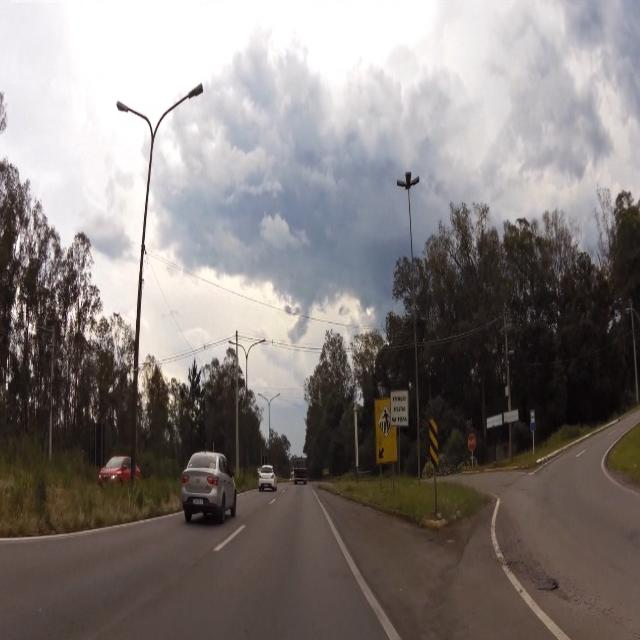E-5: (391, 391, 408, 426)
MP: (428, 419, 440, 475)
R-1: (468, 432, 476, 452)
S-14: (530, 408, 536, 433)
